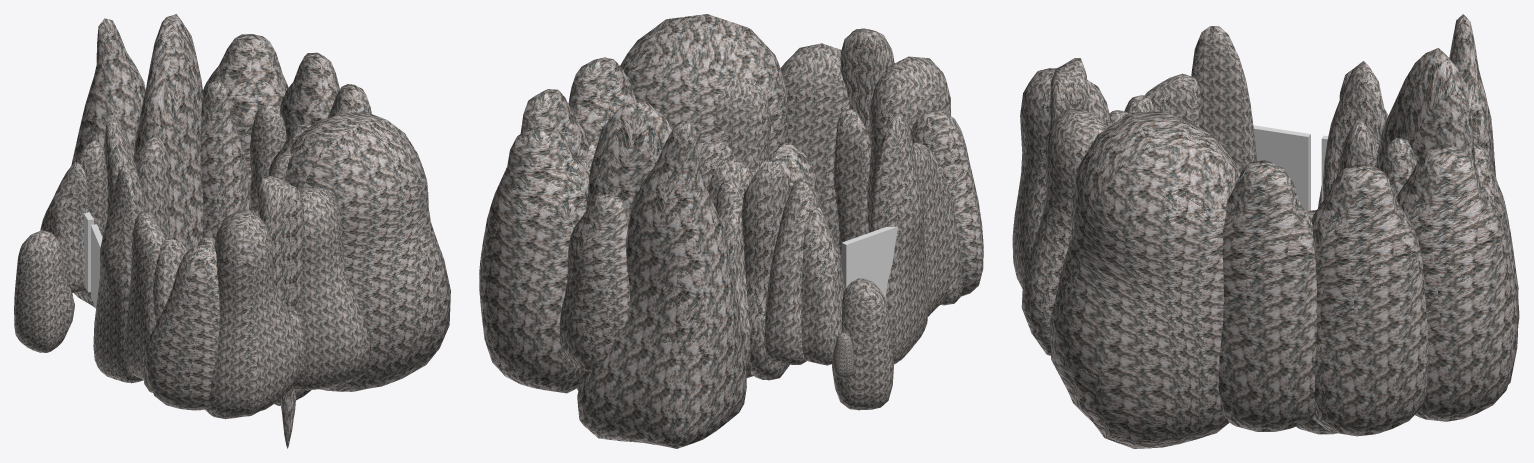
Rendered from MOUNTAINS_RICH.glb.
3 renders of one model, left to right at view 1: azimuth 30°, elevation 25°; view 2: azimuth 150°, elevation 25°; view 3: azimuth 270°, elevation 25°, orthographic. The views are drawn at different scales.
Parts seen in each view (by area): view 1: MOUNTAINS_HIDDEN_VALLEY-COL, VALLEY_WALL-col, VALLEY_WALL_2-COL; view 2: MOUNTAINS_HIDDEN_VALLEY-COL, VALLEY_WALL-col; view 3: MOUNTAINS_HIDDEN_VALLEY-COL, VALLEY_WALL-col.
Boxes of the visible parts, x1,y1,x2,y2 form: MOUNTAINS_HIDDEN_VALLEY-COL: (14,14,450,448); VALLEY_WALL-col: (91,224,102,308); VALLEY_WALL_2-COL: (83,212,93,292); MOUNTAINS_HIDDEN_VALLEY-COL: (479,14,983,448); VALLEY_WALL-col: (841,226,897,298); MOUNTAINS_HIDDEN_VALLEY-COL: (1012,14,1519,448); VALLEY_WALL-col: (1253,125,1310,212).
Bounding box in the file's own units: 15550 × 13821 × 17195.
1 material, 1 textured.
